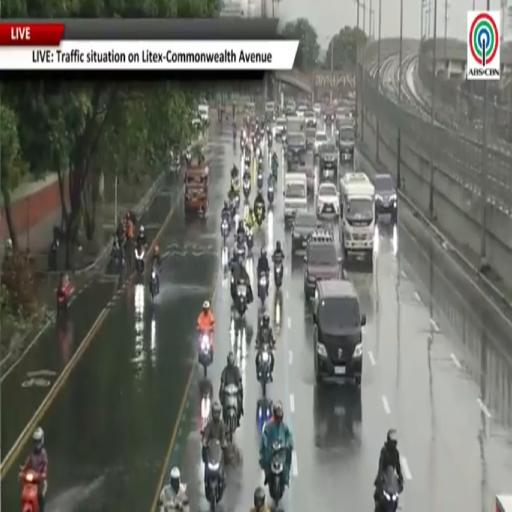car: (313, 280, 366, 386), (304, 229, 342, 299), (374, 173, 397, 222), (291, 212, 317, 253), (316, 182, 339, 217), (338, 124, 355, 164), (286, 133, 306, 165), (319, 141, 338, 170), (314, 132, 328, 155), (274, 117, 286, 140), (198, 104, 209, 125), (304, 110, 316, 128), (324, 108, 335, 124), (285, 101, 296, 116), (192, 118, 203, 131), (297, 104, 308, 117), (313, 103, 321, 119)
motorcycle: (206, 440, 223, 510), (269, 441, 285, 507), (377, 467, 400, 511), (224, 384, 238, 443), (20, 470, 40, 511), (198, 330, 213, 378), (257, 344, 270, 397), (56, 281, 74, 317), (258, 399, 272, 433), (200, 393, 211, 435), (109, 242, 124, 271), (236, 281, 247, 316), (258, 272, 268, 306), (57, 287, 68, 317), (150, 267, 159, 301), (135, 246, 145, 275), (221, 217, 229, 246), (229, 196, 239, 219), (254, 205, 264, 227), (274, 262, 282, 289), (237, 240, 245, 264), (246, 229, 253, 253), (267, 184, 274, 207), (243, 179, 250, 200), (271, 158, 278, 179), (257, 168, 263, 190), (245, 149, 250, 166), (233, 127, 236, 142)
truck: (340, 172, 375, 266), (287, 117, 305, 136), (496, 495, 511, 511)
